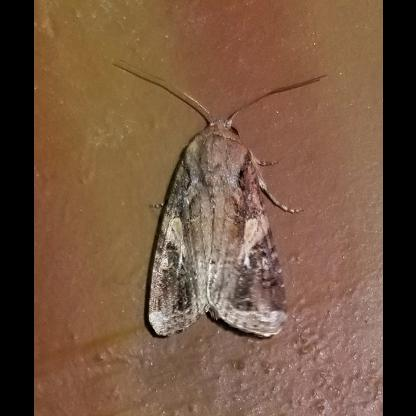Fall Armyworm Moth: (116, 56, 332, 342)
